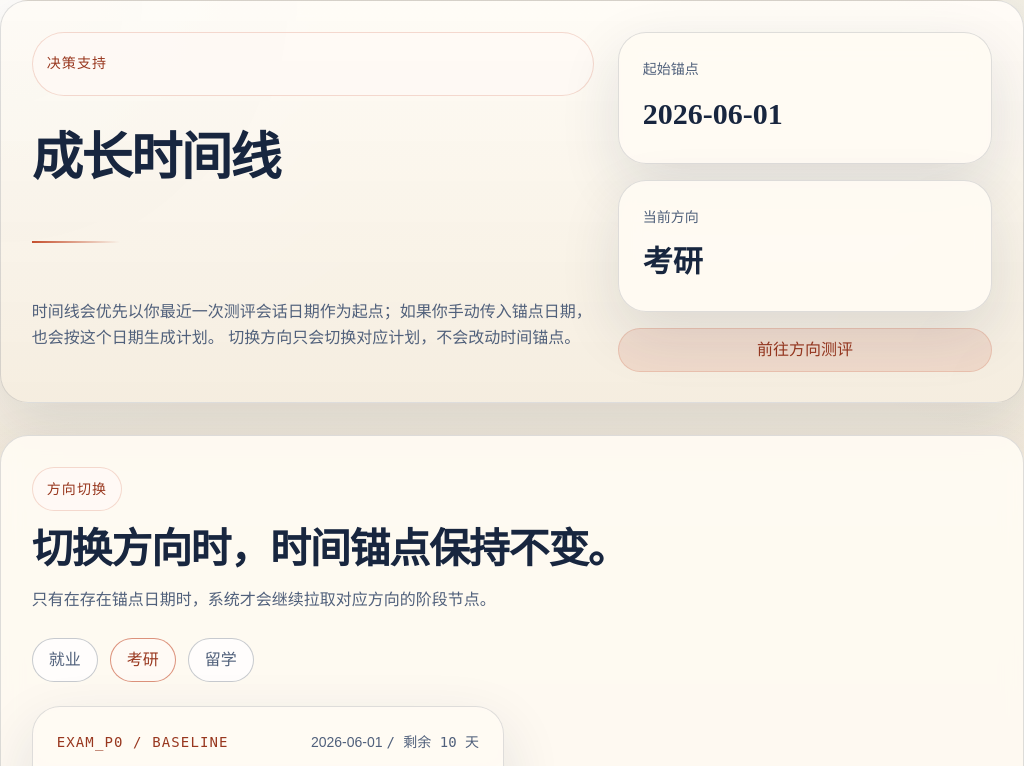
Test: latest result defaults active track and loads timeline; switching track reloads timeline
Click the tab with class "track-tab" showing "就业".
click(65, 660)  # box 32,638 -> 98,682
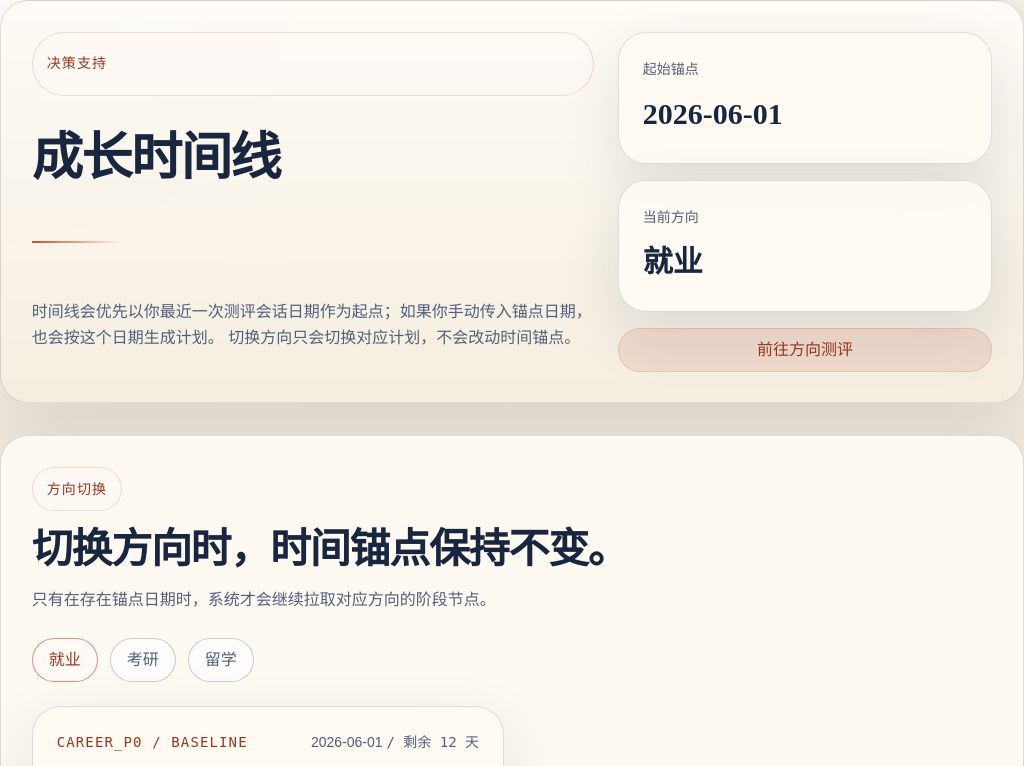
Expected: the text "CAREER_P0" is shown, 57,734 -> 248,750
